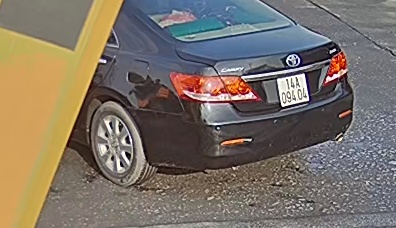vehicle plate: (271, 67, 312, 108)
